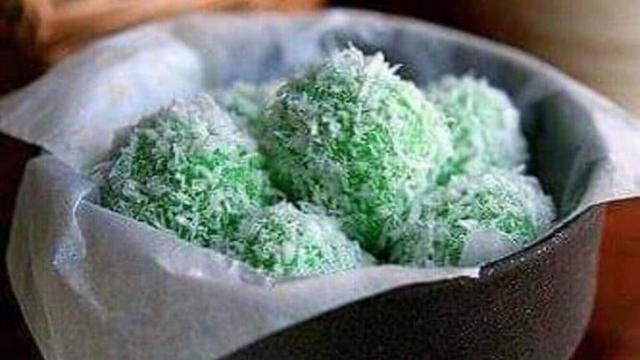klepon: (248, 44, 442, 209)
